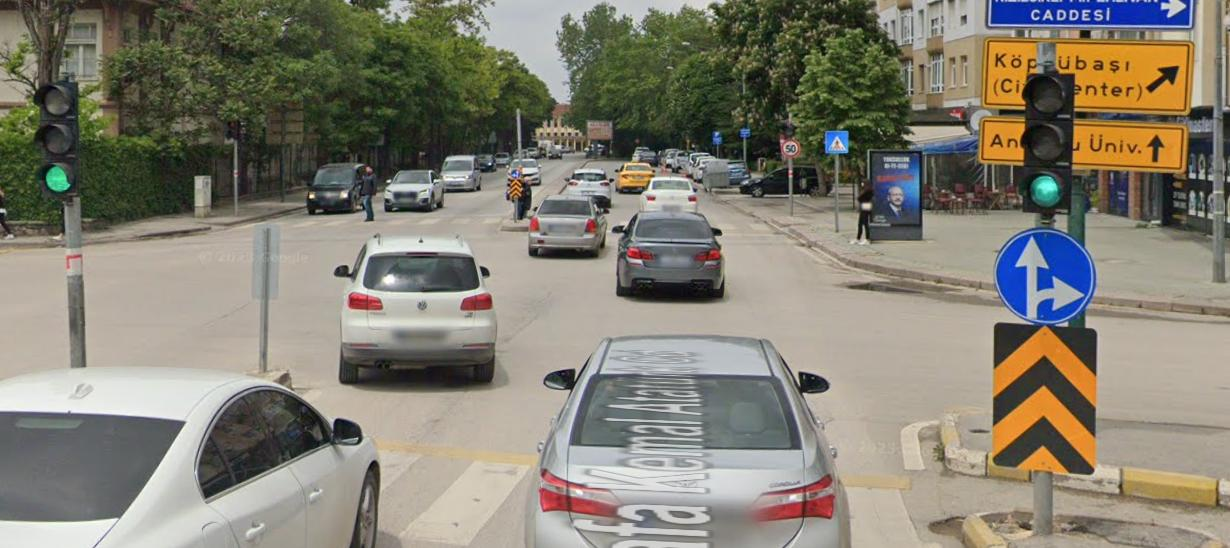greenlight: (1023, 73, 1074, 212), (33, 83, 83, 193)
